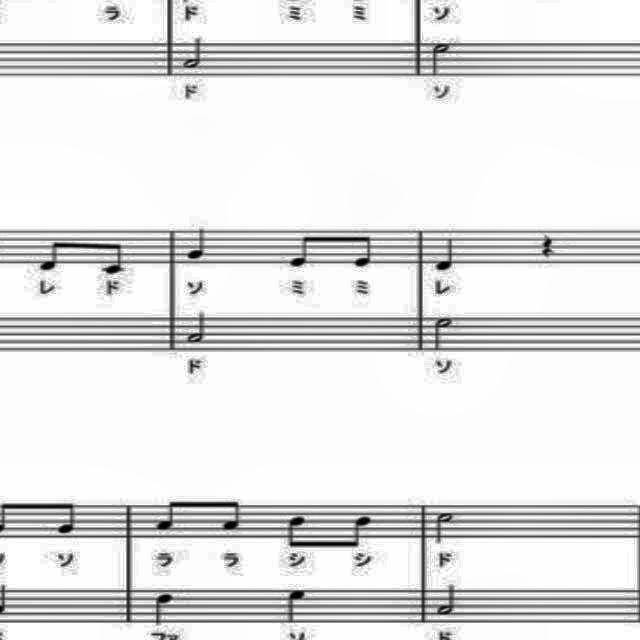Eighth-note: (152, 488, 186, 536), (46, 497, 84, 539), (286, 230, 322, 272), (283, 508, 313, 552), (349, 233, 385, 269), (346, 514, 378, 554), (220, 497, 252, 535), (38, 238, 66, 278), (100, 240, 130, 276)
Half-note: (428, 39, 456, 81), (428, 314, 454, 354), (436, 582, 462, 620), (182, 36, 206, 74), (184, 311, 208, 349), (433, 510, 455, 546)
Quarter-note: (180, 220, 212, 260), (283, 589, 311, 627), (148, 592, 176, 628), (434, 235, 458, 277)
Quarter-rest: (536, 222, 560, 262)
